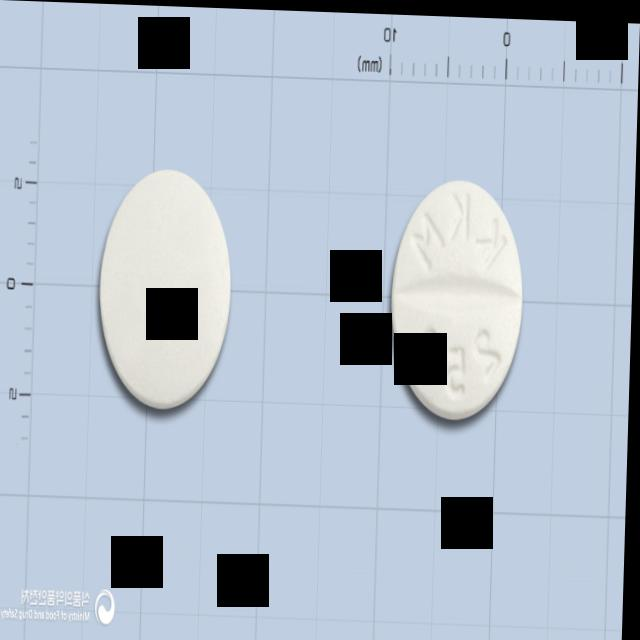Ciploxcin: (90, 160, 237, 419), (385, 168, 529, 426)
